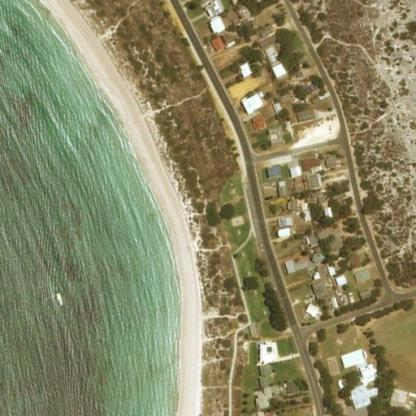ship: (49, 284, 68, 310)
